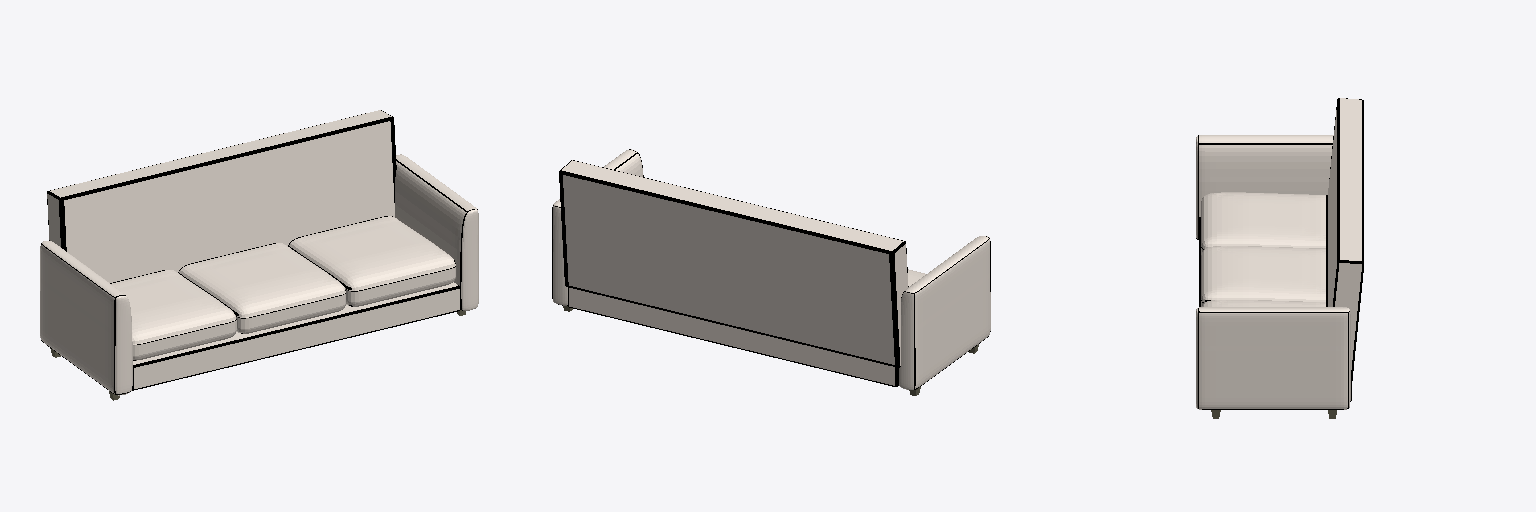
3 views of the same model, side by side, from view 1: azimuth 30°, elevation 25°; view 2: azimuth 150°, elevation 25°; view 3: azimuth 270°, elevation 25° (orthographic).
Parts seen in each view (by area): view 1: Couch; view 2: Couch; view 3: Couch.
Boxes of the visible parts, <box> form: Couch: <box>40,110,478,400</box>; Couch: <box>552,149,990,395</box>; Couch: <box>1196,98,1363,418</box>.
Size of the model in its own units: 1.59 by 0.6406 by 0.6363.
Materials: 3 (2 with a texture image).